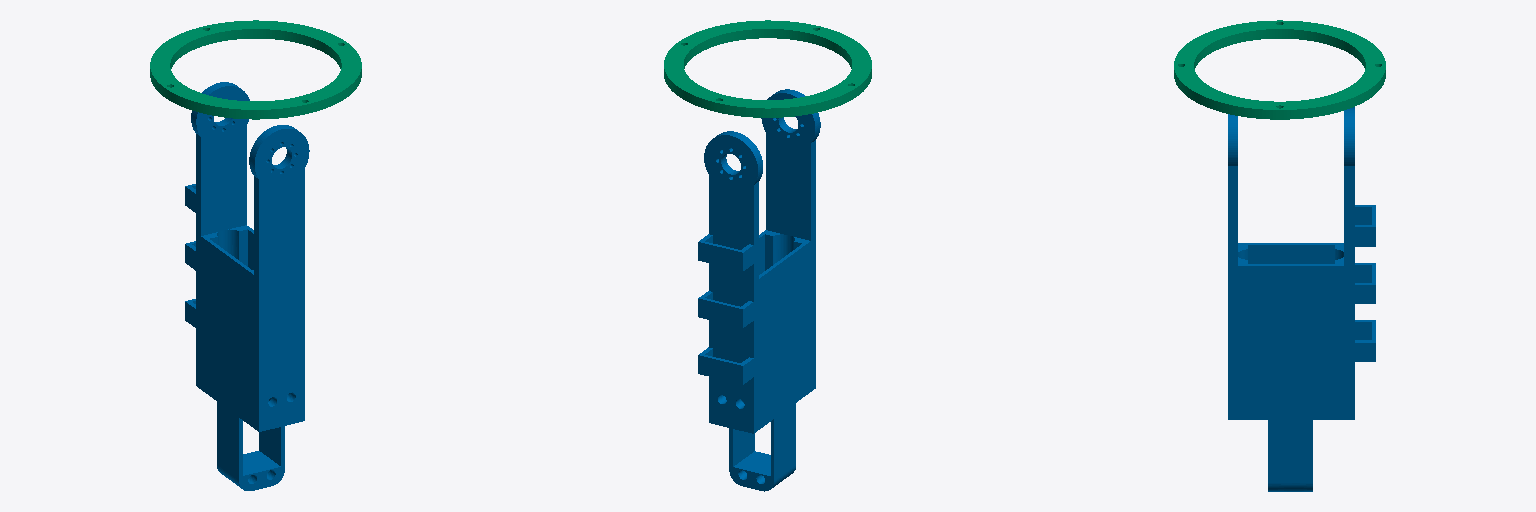
robot.urdf — arm4DoF:
<?xml version="1.0" encoding="UTF-8"?>
<robot name="arm4DoF">
   <!-- BASE -->
   <link name="base_link">
      <visual>
         <origin rpy="0 0 0" xyz="0 0 0" />
      </visual>
   </link>


   <!-- Joint 0 -->
    <link name="arm_0_top">
      <visual>
         <geometry>
            <mesh filename="package://gazebo_simulation/meshes/arm_0_top.stl" scale="0.01 0.01 0.01" />
         </geometry>
          <origin rpy="0 0 -1.57075" xyz="0 0 0" />
      </visual>
   </link>
   <joint name="arm_0_top_joint" type="fixed">
      <parent link="base_link" />
      <child link="arm_0_top" />
      <origin rpy="0 0 0" xyz="0 0 -0.07" />
   </joint>

    <link name="arm_0_closing_case">
       <visual>
          <geometry>
             <mesh filename="package://gazebo_simulation/meshes/arm_0_closing_case.stl" scale="0.01 0.01 0.01" />
          </geometry>
       </visual>
    </link>
    <joint name="arm_0_closing_case_joint" type="fixed">
       <parent link="arm_0_top" />
       <child link="arm_0_closing_case" />
       <origin rpy="0 0 0" xyz="0 0 -0.07" />
    </joint>

   <link name="arm_0_bottom">
      <visual>
         <geometry>
            <mesh filename="package://gazebo_simulation/meshes/arm_0_bottom.stl" scale="0.01 0.01 0.01" />
         </geometry>
         <origin rpy="0 3.1415 3.1415" xyz="0 0 0" />
      </visual>
   </link>
   <joint name="arm_0_bottom_joint" type="continuous">
      <parent link="arm_0_closing_case" />
      <child link="arm_0_bottom" />
      <origin rpy="0 1.57079632679 0" xyz="0 0 -0.335" />
   </joint>

   <!-- Joint 1 -->
   <link name="arm_1">
      <visual>
         <geometry>
            <mesh filename="package://gazebo_simulation/meshes/arm_1.stl" scale="0.01 0.01 0.01" />
         </geometry>
         <origin rpy="0 0 0" xyz="0 0 0" />
      </visual>
   </link>
   <joint name="arm_1_joint" type="continuous">
      <parent link="arm_0_bottom" />
      <child link="arm_1" />
      <origin xyz="0 0 0" rpy="1.57079632679 0 1.57079632679" />
   </joint>

   <!-- Joint 2-->
   <link name="arm_2">
      <visual>
         <geometry>
            <mesh filename="package://gazebo_simulation/meshes/arm_2.stl" scale="0.01 0.01 0.01" />
         </geometry>
         <origin rpy="0 0 0" xyz="0 0 0" />
      </visual>
   </link>
   <joint name="arm_2_joint" type="continuous">
      <parent link="arm_1" />
      <child link="arm_2" />
      <origin xyz="0 0 1.7" rpy="0 0 0"/>
   </joint>

</robot>

--- What the picture shows (computed from the rendered views, not written in the file) ---
The picture shows the robot from 3 angles, left to right: view 1: azimuth 30°, elevation 25°; view 2: azimuth 150°, elevation 25°; view 3: azimuth 270°, elevation 25°; orthographic projection.
Robot: arm4DoF — 6 links, 5 joints (3 continuous, 2 fixed); root link base_link; default pose: all joints at 0.
Visible links, largest first — view 1: arm_1, arm_0_closing_case; view 2: arm_1, arm_0_closing_case; view 3: arm_1, arm_0_closing_case.
Link boxes in pixels (<box>): arm_1: <box>185,82,309,490</box>; arm_0_closing_case: <box>150,20,361,119</box>; arm_1: <box>698,89,820,491</box>; arm_0_closing_case: <box>664,20,871,117</box>; arm_1: <box>1228,107,1375,491</box>; arm_0_closing_case: <box>1174,20,1385,119</box>.
Size in the robot's own frame: 0.9999 by 1 by 2.18 metres.
2 mesh visuals loaded from 5 distinct referenced files (2 binary STL); not drawn: 3 (reference not matched to a file when rendering).